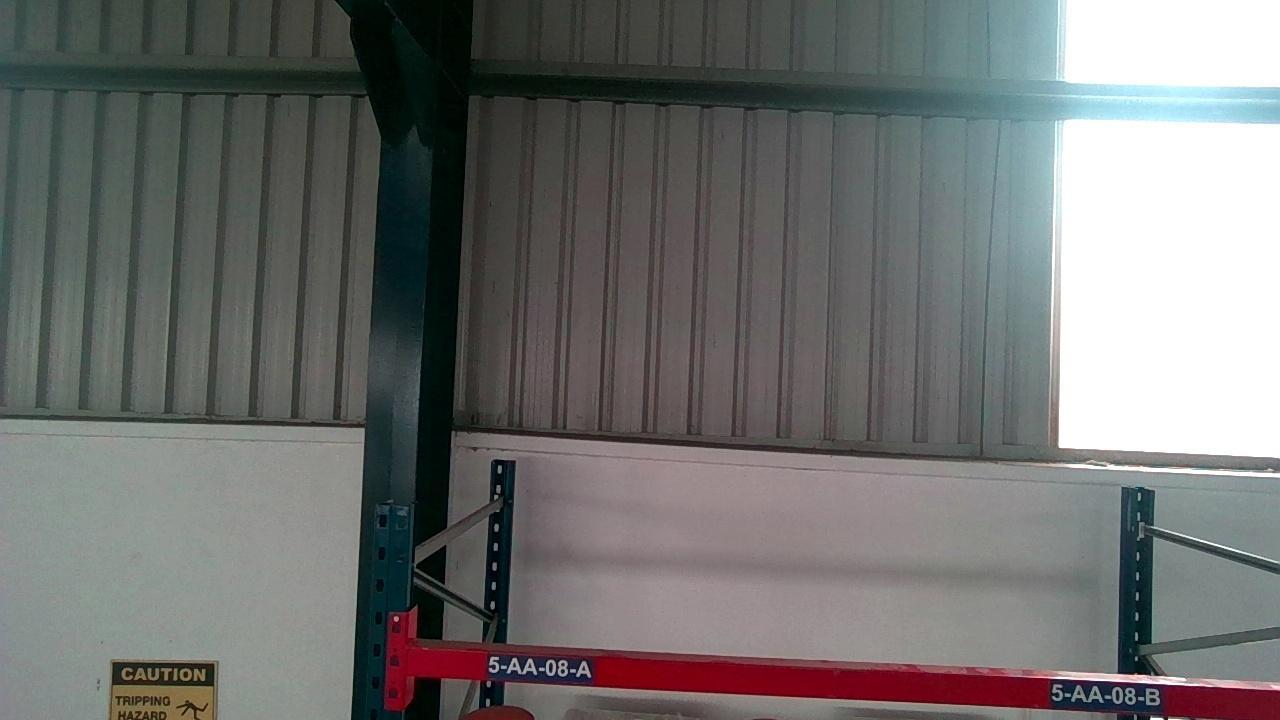h_rack: (407, 647, 1280, 719)
